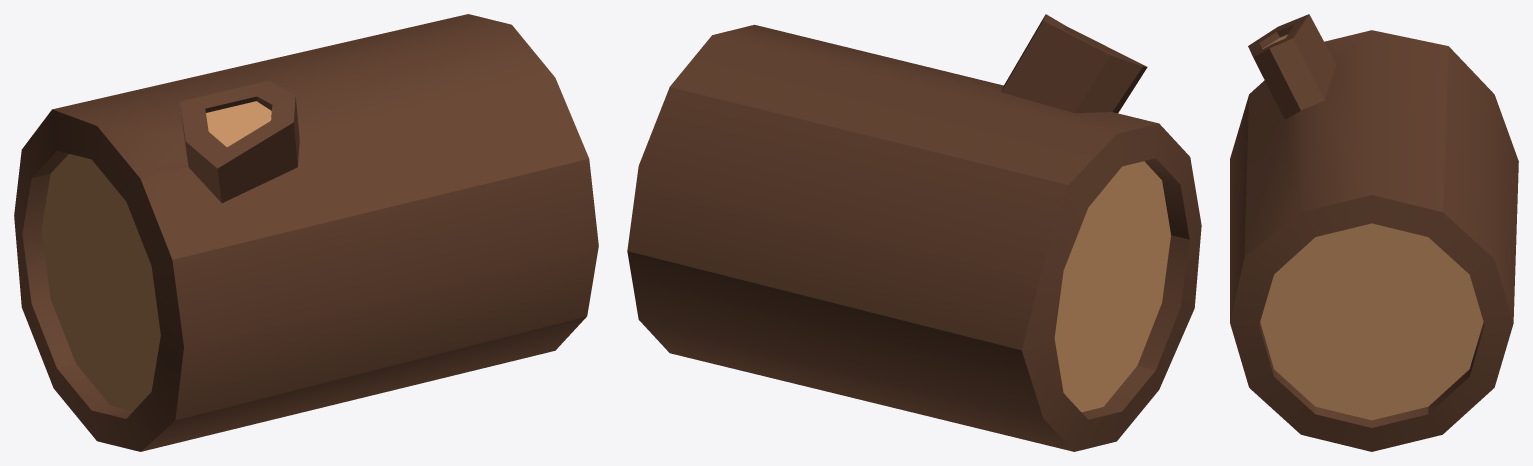
File: Evervale_Wooditem.fbx
The picture shows the model from 3 angles, left to right: view 1: azimuth 30°, elevation 25°; view 2: azimuth 150°, elevation 25°; view 3: azimuth 270°, elevation 25°; orthographic projection. The views are drawn at different scales.
Parts seen in each view (by area): view 1: WoodItem; view 2: WoodItem; view 3: WoodItem.
Boxes of the visible parts, <box> form: WoodItem: <box>14,14,598,451</box>; WoodItem: <box>627,14,1201,451</box>; WoodItem: <box>1230,14,1518,451</box>.
Size of the model in its own units: 75.48 by 61.97 by 54.42.
